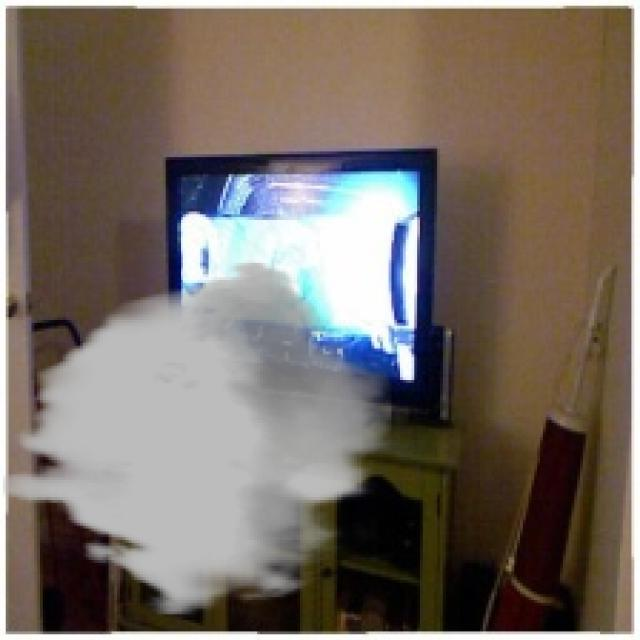smoke: (3, 260, 391, 617)
